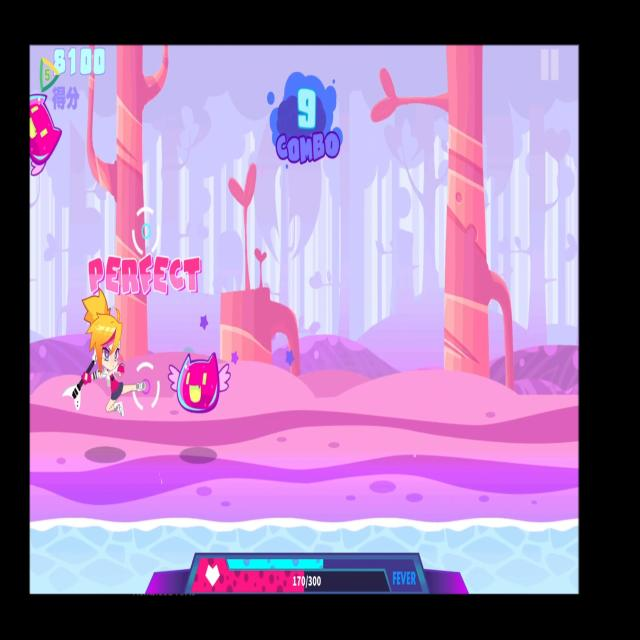mao: (166, 347, 232, 417)
